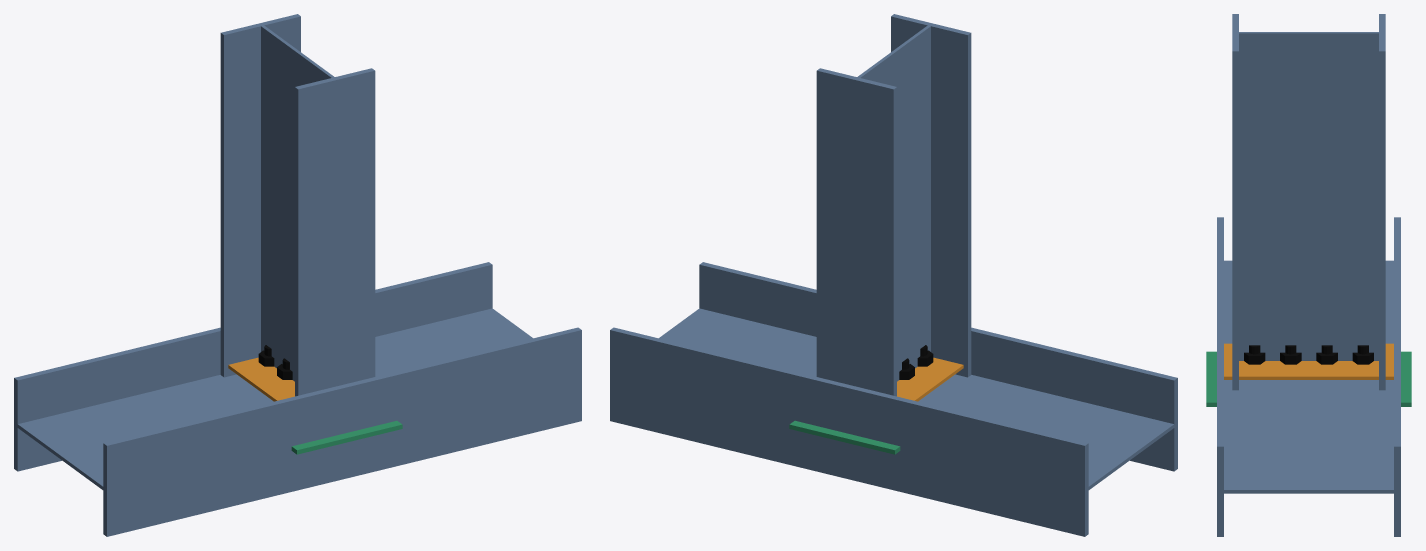
File: detail_B4_beam_to_beam_connection.obj
3 views of the same model, side by side, from view 1: azimuth 30°, elevation 25°; view 2: azimuth 150°, elevation 25°; view 3: azimuth 270°, elevation 25° (orthographic).
Parts seen in each view (by area): view 1: B4_primary_beam_top_flange, B4_secondary_beam_top_flange, B4_primary_beam_bottom_flange, B4_primary_beam_web, B4_secondary_beam_bottom_flange, B4_secondary_beam_web, B4_PL6_fin_plate_130x300, B4_PL8_beam_web_doubler; view 2: B4_primary_beam_bottom_flange, B4_secondary_beam_bottom_flange, B4_primary_beam_top_flange, B4_primary_beam_web, B4_secondary_beam_top_flange, B4_secondary_beam_web, B4_PL6_fin_plate_130x300, B4_PL8_beam_web_doubler; view 3: B4_secondary_beam_web, B4_primary_beam_web, B4_PL6_fin_plate_130x300, B4_secondary_beam_top_flange, B4_secondary_beam_bottom_flange, B4_primary_beam_top_flange, B4_primary_beam_bottom_flange, B4_PL8_beam_web_doubler, bolt_M20_B4_2, bolt_M20_B4_3, bolt_M20_B4_1, bolt_M20_B4_4.
Part boxes in pixels (left/top/right/bottom): B4_primary_beam_top_flange: left=103, top=327, right=581, bottom=536; B4_secondary_beam_top_flange: left=295, top=68, right=375, bottom=396; B4_primary_beam_bottom_flange: left=14, top=262, right=492, bottom=471; B4_primary_beam_web: left=17, top=308, right=532, bottom=489; B4_secondary_beam_bottom_flange: left=220, top=14, right=300, bottom=377; B4_secondary_beam_web: left=261, top=25, right=334, bottom=381; B4_PL6_fin_plate_130x300: left=228, top=357, right=294, bottom=401; B4_PL8_beam_web_doubler: left=291, top=420, right=402, bottom=454; B4_primary_beam_bottom_flange: left=610, top=327, right=1088, bottom=536; B4_secondary_beam_bottom_flange: left=816, top=68, right=896, bottom=396; B4_primary_beam_top_flange: left=699, top=262, right=1177, bottom=471; B4_primary_beam_web: left=659, top=308, right=1174, bottom=489; B4_secondary_beam_top_flange: left=891, top=14, right=971, bottom=377; B4_secondary_beam_web: left=857, top=25, right=930, bottom=381; B4_PL6_fin_plate_130x300: left=897, top=357, right=963, bottom=401; B4_PL8_beam_web_doubler: left=789, top=420, right=900, bottom=454; B4_secondary_beam_web: left=1239, top=32, right=1378, bottom=360; B4_primary_beam_web: left=1224, top=260, right=1393, bottom=493; B4_PL6_fin_plate_130x300: left=1224, top=343, right=1393, bottom=379; B4_secondary_beam_top_flange: left=1232, top=14, right=1238, bottom=390; B4_secondary_beam_bottom_flange: left=1379, top=14, right=1385, bottom=390; B4_primary_beam_top_flange: left=1217, top=217, right=1223, bottom=536; B4_primary_beam_bottom_flange: left=1394, top=217, right=1400, bottom=536; B4_PL8_beam_web_doubler: left=1206, top=351, right=1411, bottom=406; bolt_M20_B4_2: left=1316, top=345, right=1337, bottom=364; bolt_M20_B4_3: left=1280, top=345, right=1301, bottom=364; bolt_M20_B4_1: left=1352, top=345, right=1373, bottom=364; bolt_M20_B4_4: left=1244, top=345, right=1265, bottom=364.
Bounding box in the file's own units: 900 × 712 × 340.
